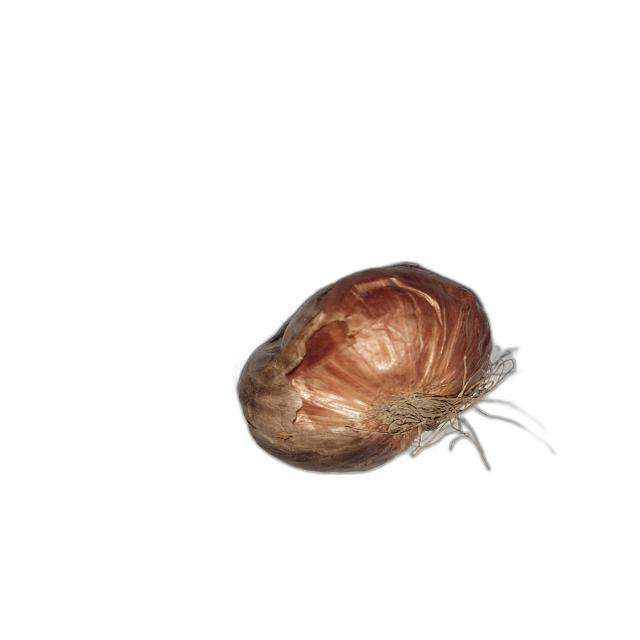onion: (235, 262, 517, 474)
